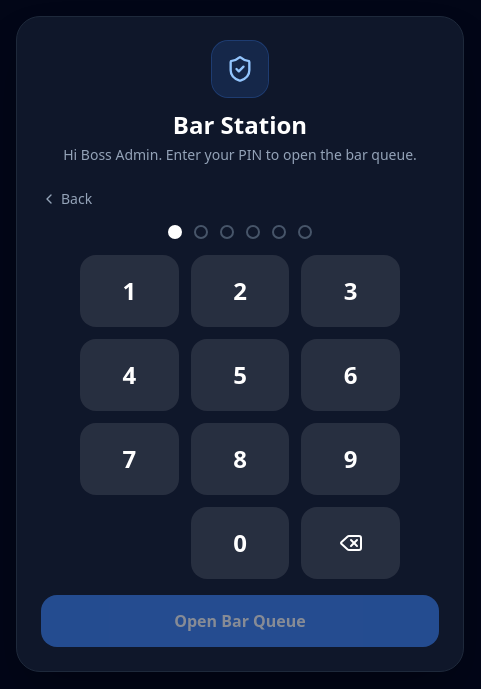
Test: bar login with a stale admin tile › tells managers to use their password and reloads the tiles once
Earlier steps of the test are not shown.
Later steps or results of the test are not shown.
Click the button "2" at (240, 291), box [191,255,289,327]
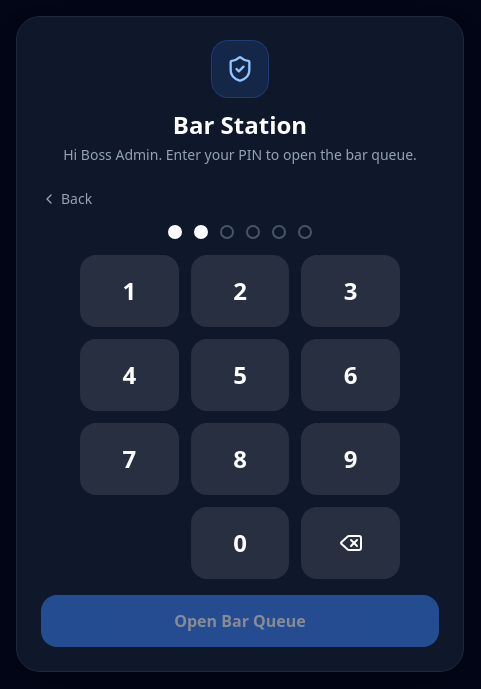
Click the button "3" at (351, 291), box [301,255,400,327]
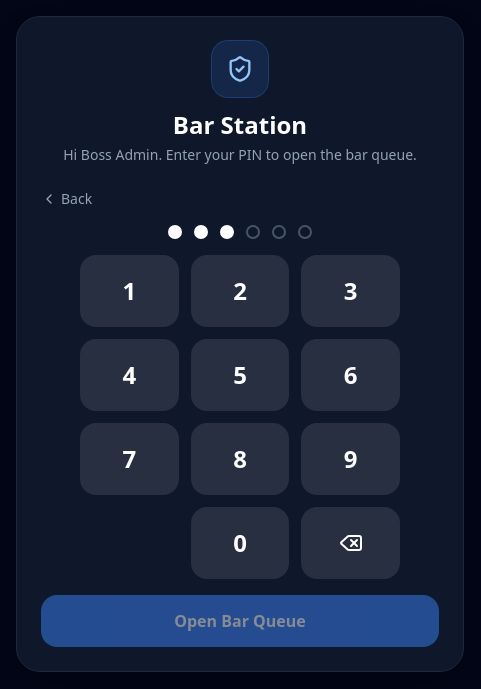
Click the button "4" at (129, 375), box [80,339,179,411]
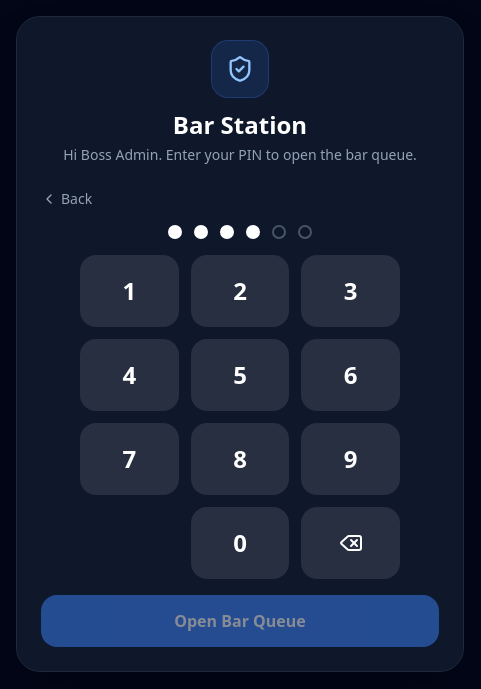
Click the button "5" at (240, 375), box [191,339,289,411]
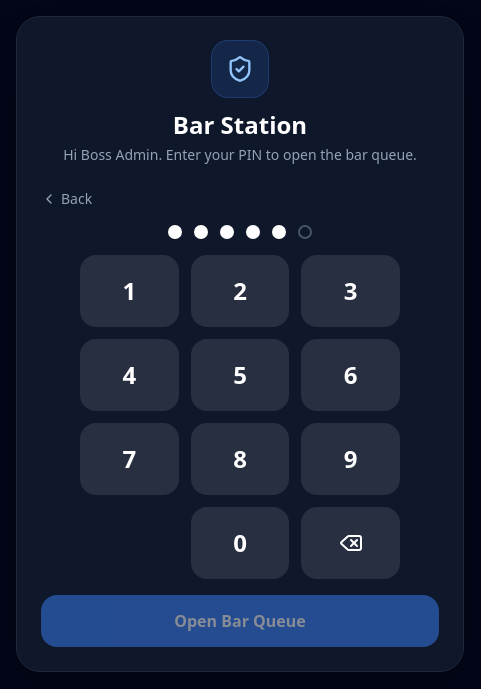
Click the button "6" at (351, 375), box [301,339,400,411]
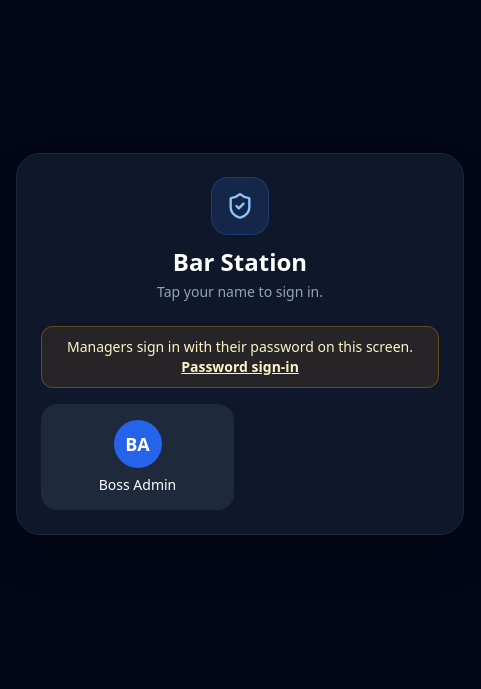
Expected: the text "Managers sign in with their password on this screen. Password sign-in" is shown, [41,326,439,388]
Click the button "BA Boss Admin" at (138, 457), box [41,404,234,510]
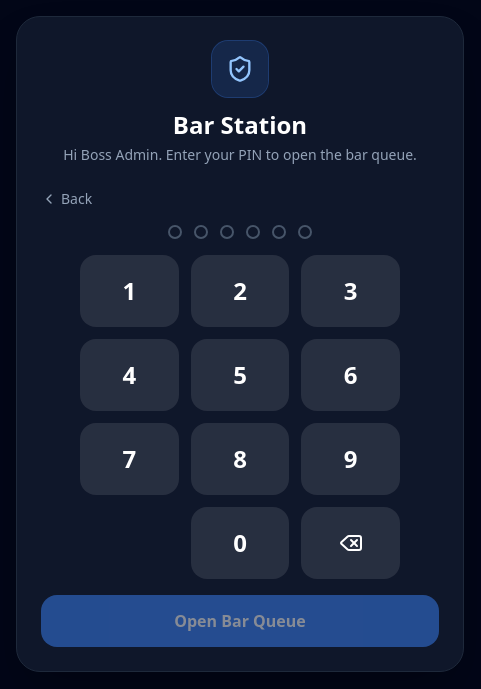
Expected: the text "Managers sign in" is gone
